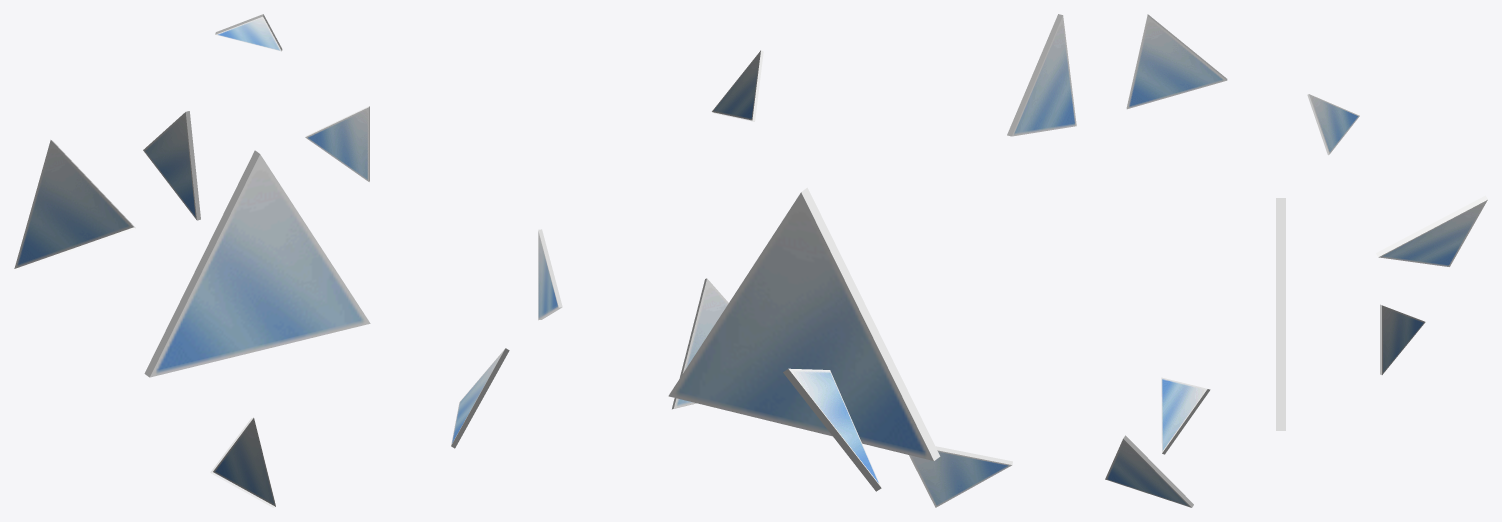
The model's file is pieta.ico.obj.
3 views of the same model, side by side, from view 1: azimuth 30°, elevation 25°; view 2: azimuth 150°, elevation 25°; view 3: azimuth 270°, elevation 25° (orthographic). The views are drawn at different scales.
Bounding box in the file's own units: 2.63 × 3.34 × 2.92.
Materials: 1 (1 with a texture image).
